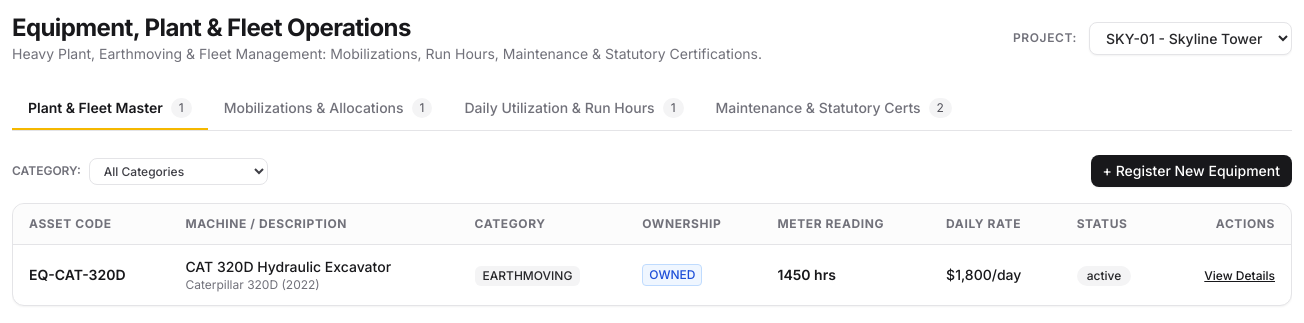
Test case: EquipmentPage Component › switches to Daily Utilization tab and displays operating hours & fuel
Expected: the heading "Equipment, Plant & Fleet Operations" is shown, [12,13,411,42]
What coordinates should you click on to do the following:
click the button "Daily Utilization & Run Hours 1"
I would click on:
 (574, 109)
Its box is [448,88,700,130].
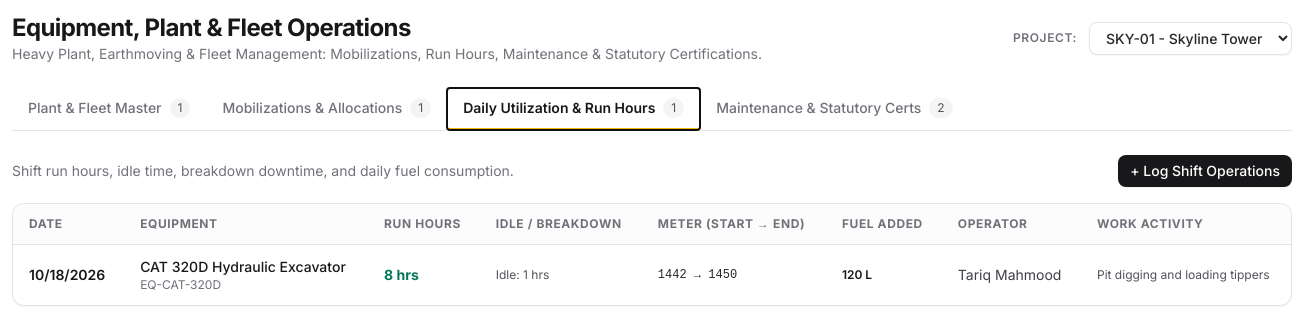
Now the text "Pit digging and loading tippers" is shown, box [1081,244,1291,305]
Now the text "8 hrs" is shown, box [368,244,480,305]
Now the text "120 L" is shown, box [826,244,942,305]
